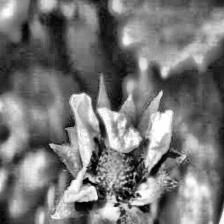Blossom Blight: (81, 136, 151, 210)
